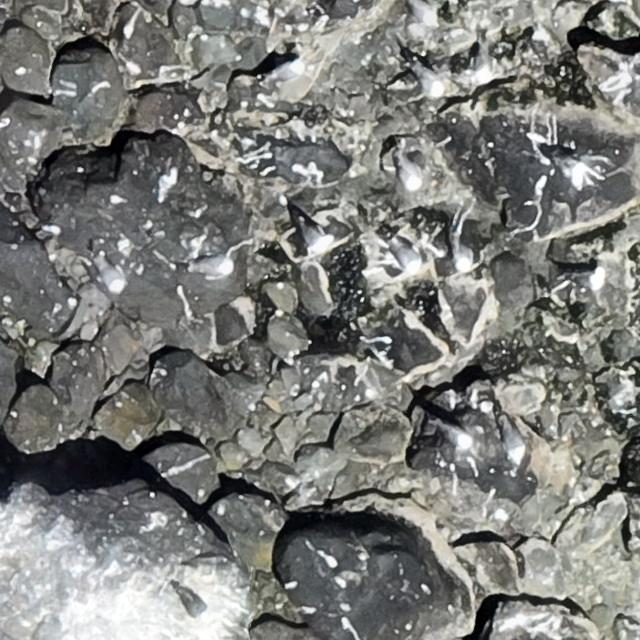umineko: (295, 208, 339, 254), (546, 144, 589, 189), (92, 250, 126, 294), (386, 234, 421, 276), (178, 589, 216, 622), (500, 416, 526, 464), (566, 264, 610, 291), (400, 152, 426, 192), (474, 40, 496, 86), (438, 424, 474, 449), (420, 66, 446, 99), (192, 256, 232, 275), (452, 242, 474, 274), (267, 60, 301, 80)
